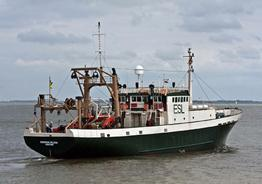otherboat: (19, 39, 245, 160)
